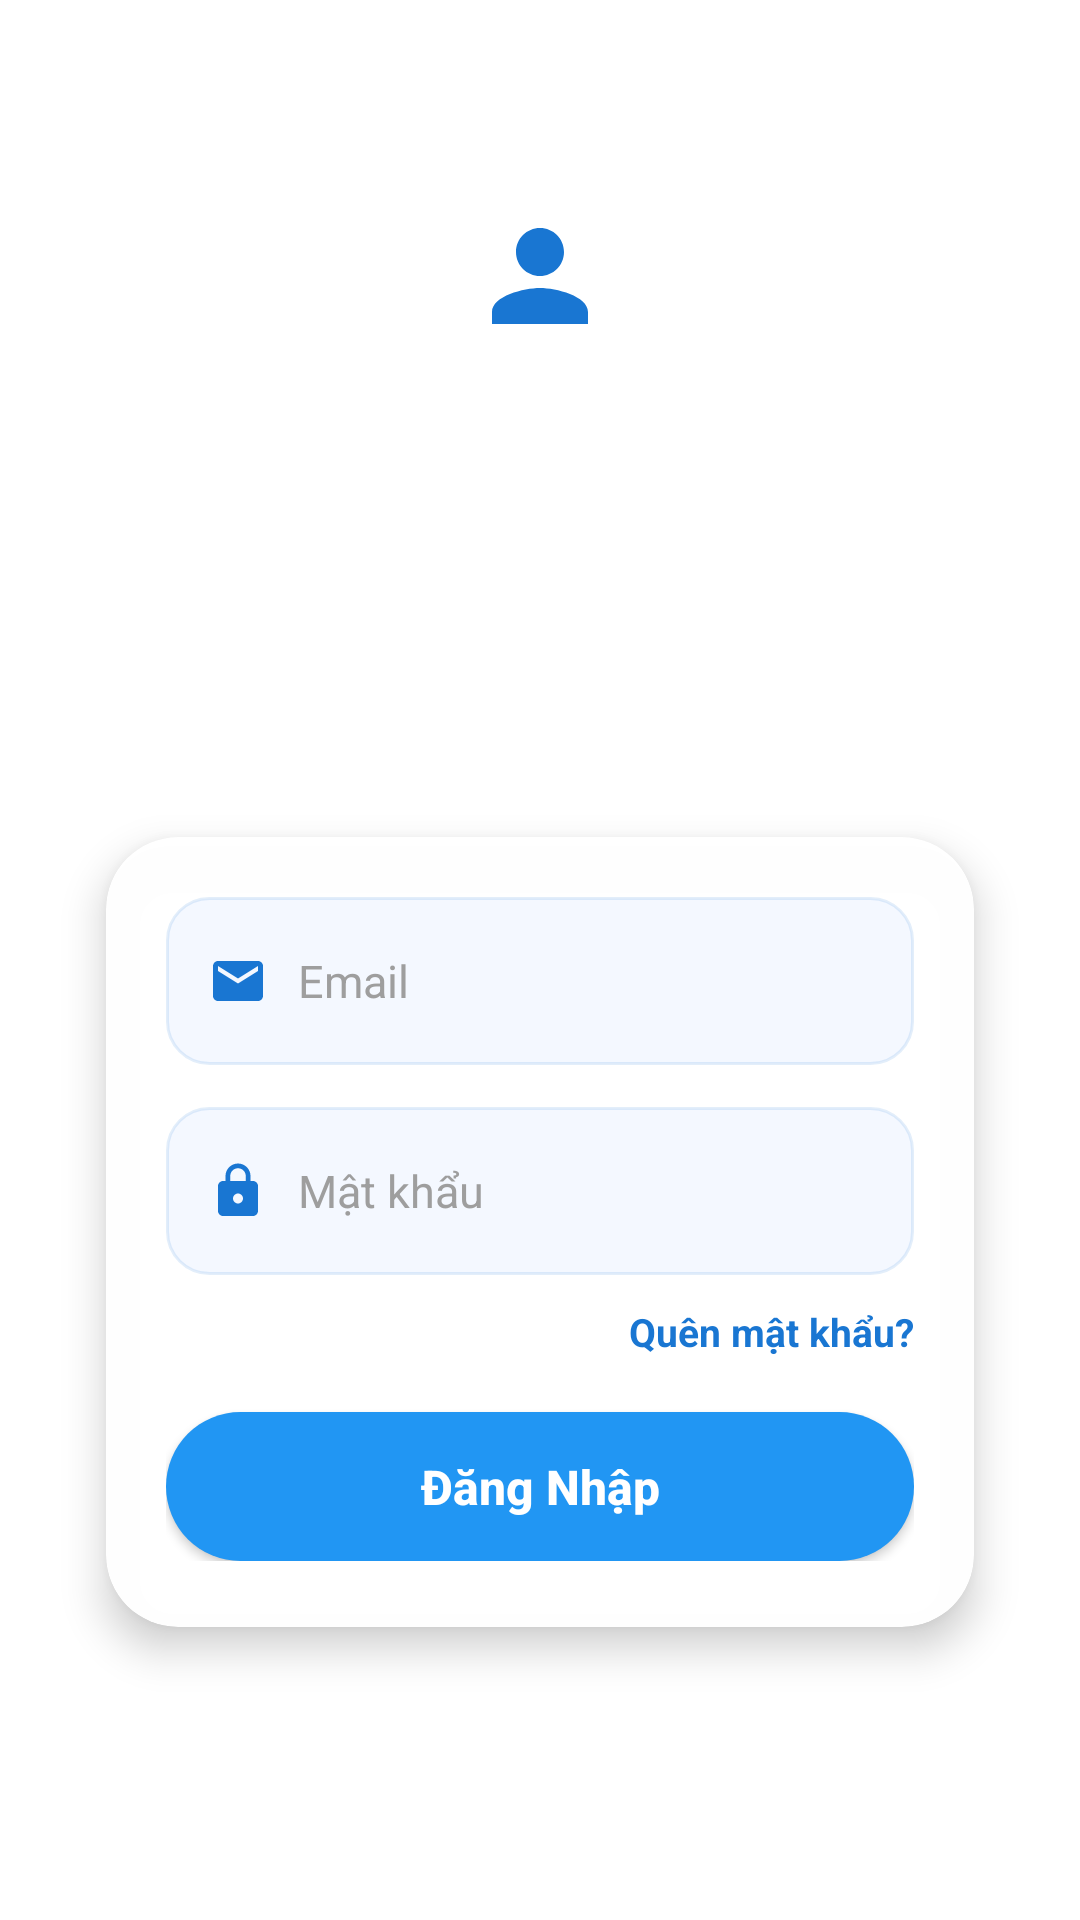

Icons on this 1080x1920 Android screen, each with its box as bbox=(x1, y1, x2, y2):
password: bbox=(218, 1163, 258, 1216)
user: bbox=(492, 228, 588, 324)
